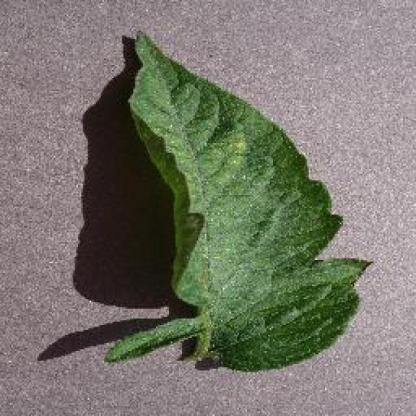Tomato_Spider_Mites: (106, 32, 372, 366)
